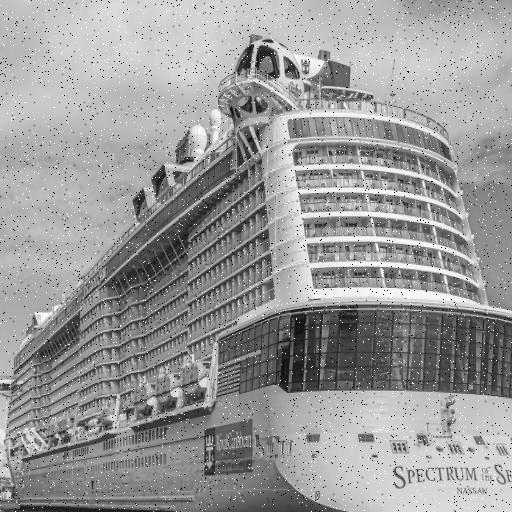cruises: (1, 29, 512, 512)
